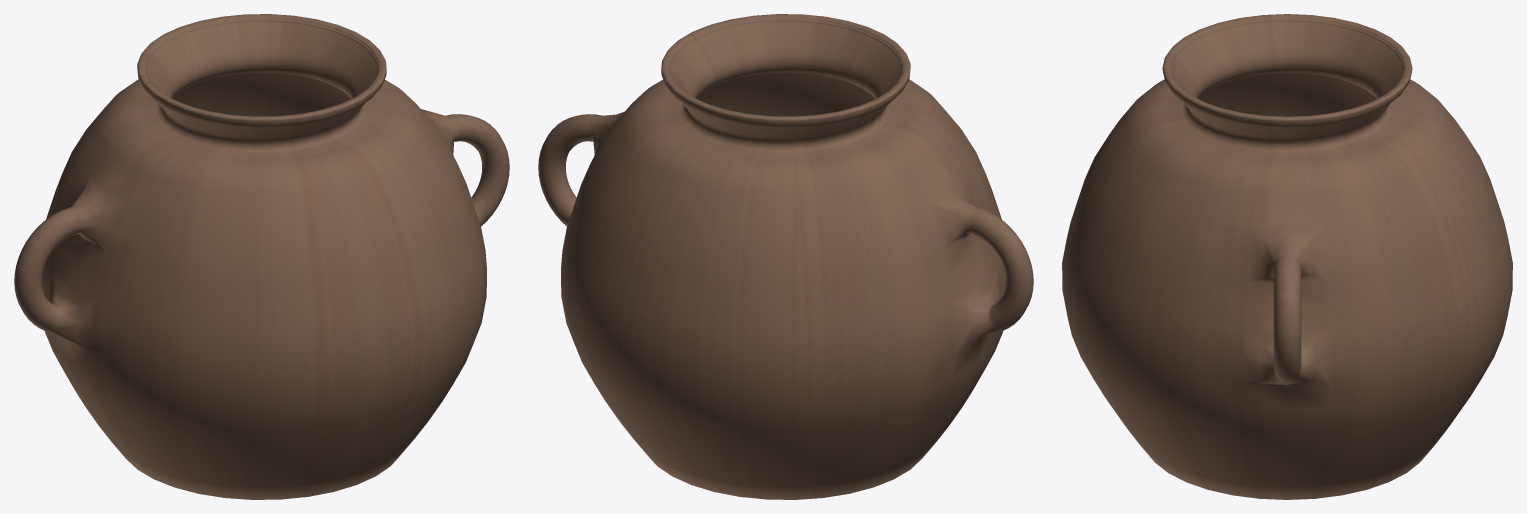
The model's file is Pots_1 (3).fbx.
3 renders of one model, left to right at view 1: azimuth 30°, elevation 25°; view 2: azimuth 150°, elevation 25°; view 3: azimuth 270°, elevation 25°, orthographic.
Parts seen in each view (by area): view 1: Circle.002; view 2: Circle.002; view 3: Circle.002.
Boxes of the visible parts, x1=… form: Circle.002: x1=14, y1=14, x2=509, y2=499; Circle.002: x1=538, y1=14, x2=1033, y2=499; Circle.002: x1=1062, y1=14, x2=1512, y2=499.
Bounding box in the file's own units: 195 × 142 × 155.
